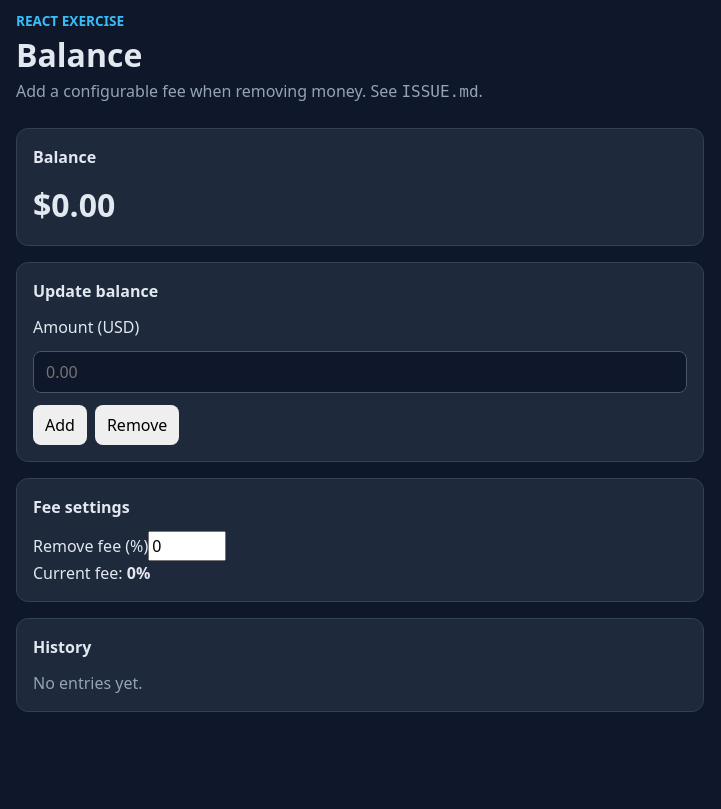
App › removes money with zero fee
Type "100" into the field labelled "Amount (USD)" at (360, 372), box [33,351,687,393]
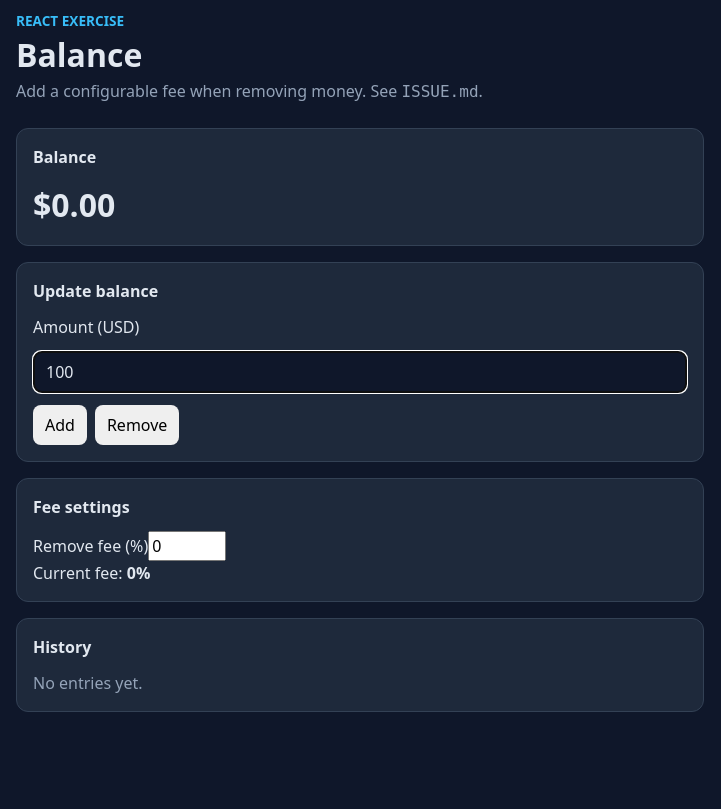
Click the button "Add" at (60, 425), box [33,405,87,445]
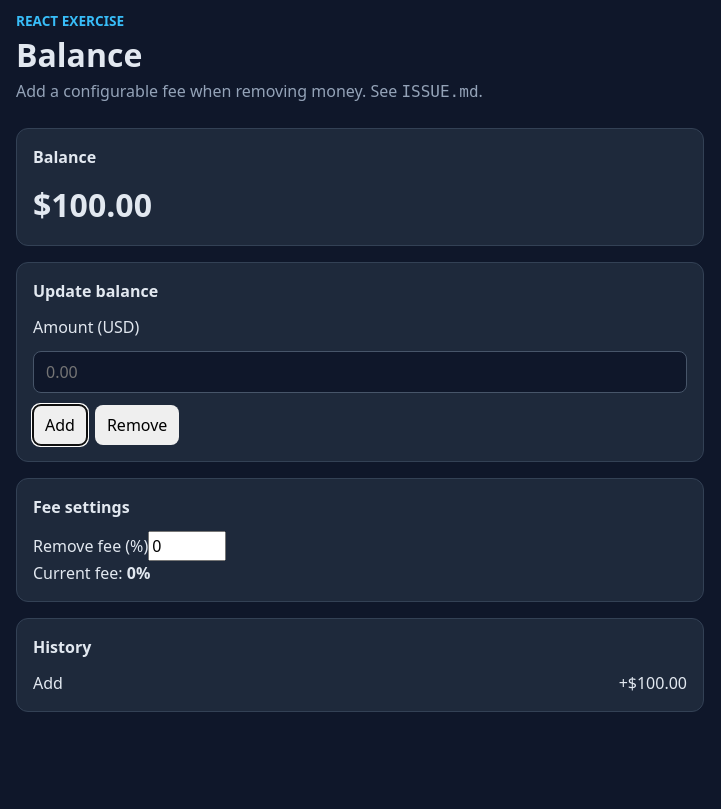
Type "100" into the field labelled "Amount (USD)" at (360, 372), box [33,351,687,393]
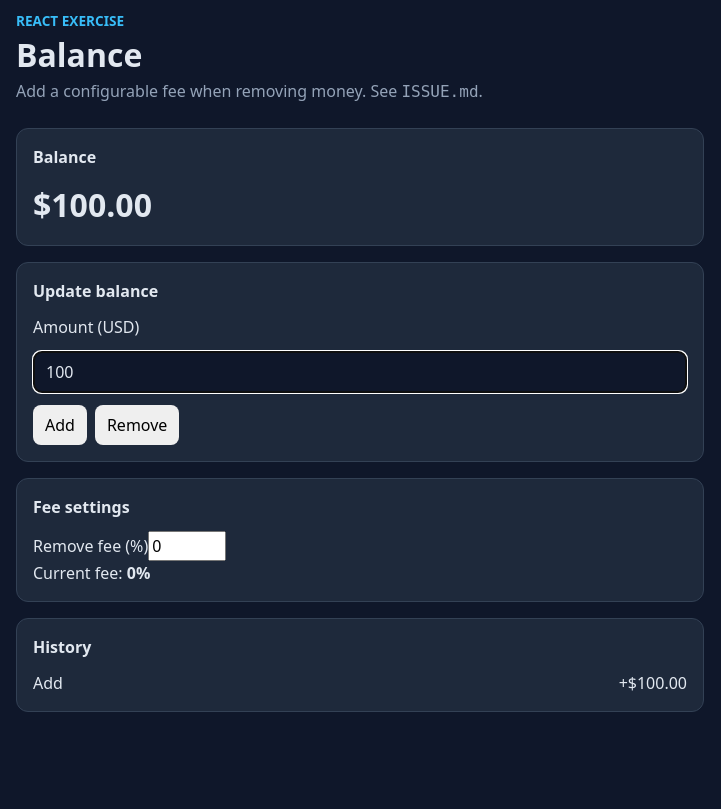
Click the button "Remove" at (137, 425), box [95,405,179,445]
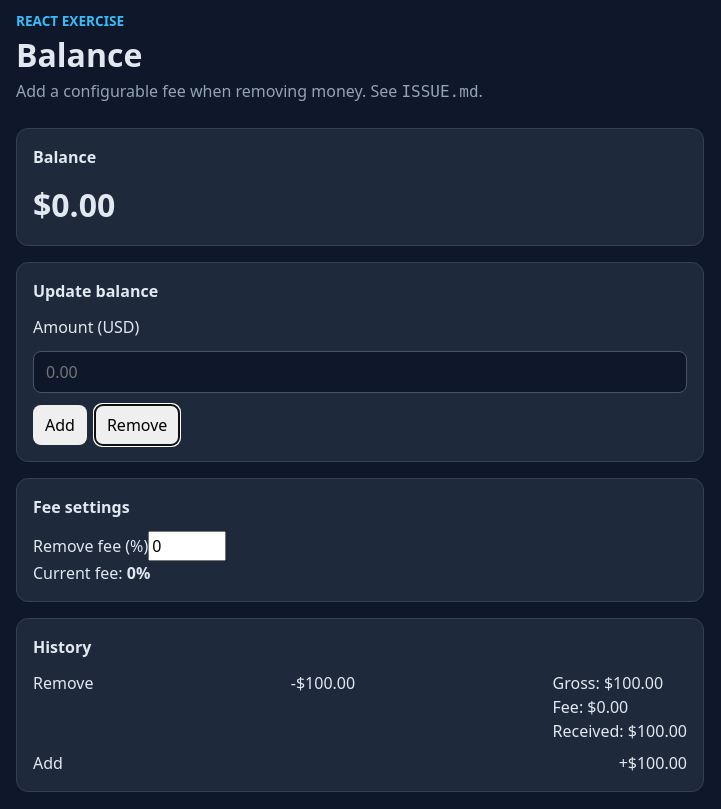
Expected: the element named "Current balance" shows "$0.00", [33,183,115,226]
